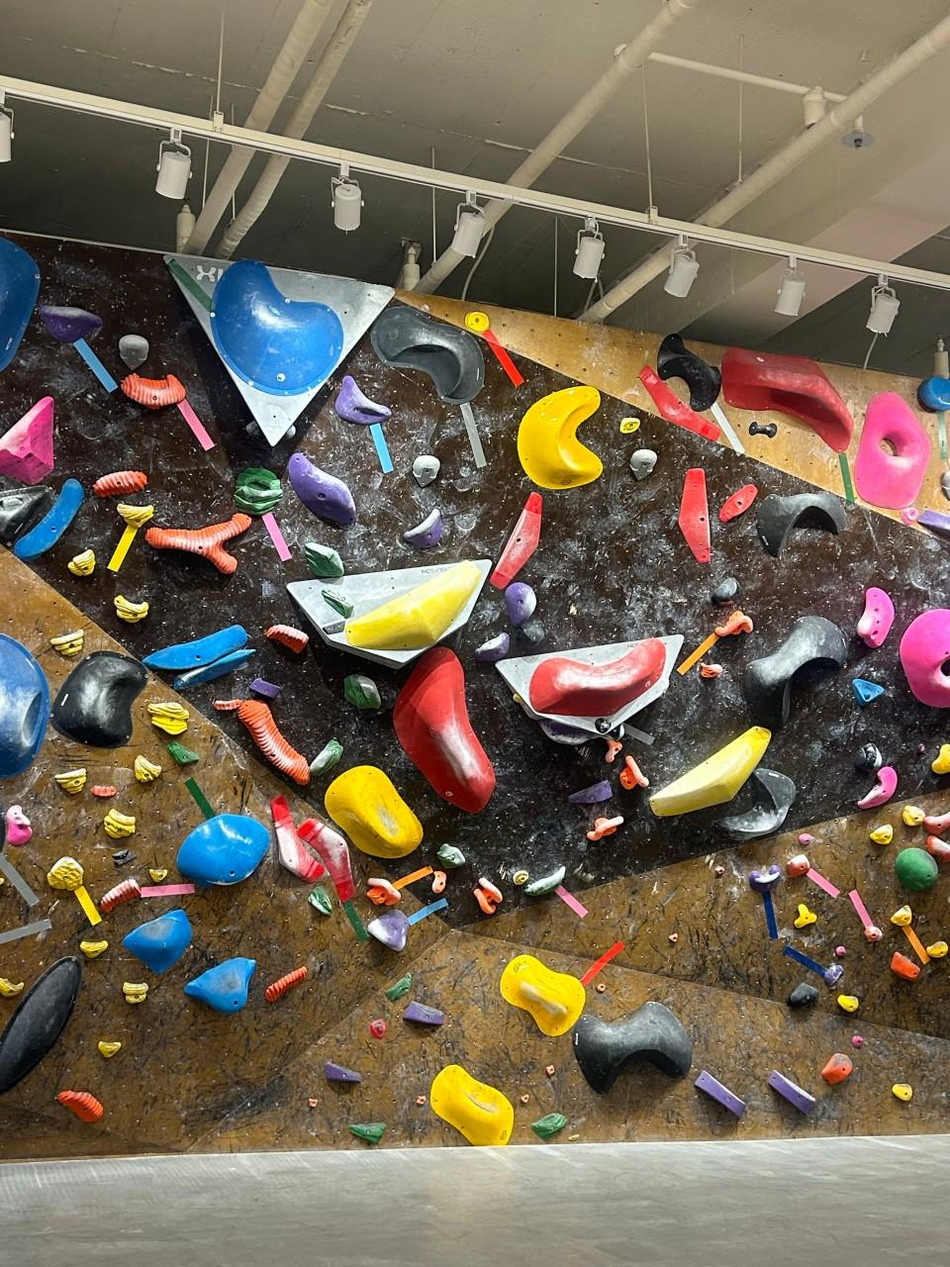hold: (211, 259, 341, 395), (393, 646, 495, 813), (720, 348, 853, 453), (344, 561, 481, 649), (743, 616, 846, 726), (0, 956, 81, 1094), (370, 305, 483, 403), (572, 1002, 690, 1093), (650, 727, 770, 816), (529, 638, 665, 715), (51, 651, 146, 747), (854, 393, 930, 510), (326, 766, 423, 857), (517, 386, 602, 488), (0, 634, 49, 778), (502, 954, 585, 1034), (430, 1064, 513, 1144), (177, 814, 270, 884), (145, 513, 251, 573), (238, 700, 309, 786), (639, 366, 720, 441), (757, 493, 846, 556), (14, 479, 83, 560), (717, 768, 795, 839), (0, 238, 40, 370), (657, 334, 722, 412), (297, 818, 354, 903), (900, 610, 949, 707), (288, 453, 354, 525), (491, 494, 541, 588), (0, 397, 53, 484), (142, 626, 247, 669), (272, 796, 325, 881), (124, 910, 191, 973), (184, 957, 255, 1012), (175, 649, 254, 690), (0, 485, 53, 543), (679, 469, 710, 562), (334, 376, 391, 425), (40, 305, 102, 343), (234, 467, 282, 515), (695, 1071, 743, 1118), (857, 587, 894, 647), (121, 373, 185, 407), (769, 1071, 815, 1113), (895, 848, 937, 890), (857, 765, 897, 809), (368, 911, 408, 950), (302, 541, 343, 579), (265, 966, 307, 1003), (718, 483, 756, 523), (403, 509, 441, 547), (540, 719, 595, 745), (147, 702, 189, 736), (56, 1092, 103, 1122), (101, 878, 140, 913), (94, 471, 146, 497), (344, 674, 380, 710), (506, 582, 534, 627), (524, 866, 565, 895), (266, 625, 308, 653), (48, 857, 82, 891), (918, 376, 949, 412), (473, 877, 502, 915), (569, 779, 613, 804), (312, 739, 342, 775), (119, 335, 148, 370), (365, 878, 401, 906), (117, 503, 154, 530), (821, 1053, 853, 1084), (619, 757, 649, 790), (586, 815, 624, 841), (6, 807, 32, 845), (475, 633, 509, 662), (714, 611, 753, 635), (531, 1113, 567, 1139), (404, 1001, 443, 1025), (103, 808, 134, 838), (322, 589, 353, 619), (629, 448, 657, 480), (115, 595, 146, 623), (51, 630, 84, 656), (55, 767, 86, 794), (749, 866, 781, 892), (852, 680, 884, 706), (413, 455, 439, 486), (67, 548, 95, 576), (890, 951, 919, 978), (349, 1122, 385, 1143), (518, 618, 546, 645), (788, 982, 818, 1007), (135, 755, 161, 783), (919, 510, 949, 534), (167, 741, 198, 764), (309, 885, 332, 916), (385, 974, 411, 1001), (855, 744, 882, 770), (711, 577, 738, 603), (436, 843, 464, 868), (326, 1061, 360, 1081), (926, 834, 949, 862), (249, 678, 280, 698), (79, 939, 108, 958), (932, 743, 949, 774), (863, 925, 886, 947), (787, 854, 809, 876), (124, 982, 146, 1003), (0, 977, 23, 997), (750, 422, 777, 439), (872, 825, 894, 845), (836, 994, 858, 1014), (97, 1040, 121, 1058), (467, 313, 488, 333), (903, 805, 923, 826), (796, 904, 815, 926), (926, 940, 949, 958), (825, 963, 843, 986), (605, 739, 621, 763), (892, 905, 911, 925), (113, 850, 135, 867), (700, 663, 724, 678), (322, 620, 346, 635), (431, 871, 446, 894), (370, 1019, 388, 1038), (149, 866, 167, 883), (620, 417, 639, 433), (91, 785, 116, 797), (244, 420, 261, 437), (892, 1085, 910, 1100), (514, 869, 528, 886), (902, 509, 917, 524), (215, 701, 242, 709), (596, 718, 611, 732), (280, 426, 295, 438), (800, 832, 813, 845), (852, 1036, 862, 1047), (417, 1095, 426, 1105), (669, 932, 678, 942), (309, 1098, 318, 1107), (715, 866, 724, 875), (546, 1066, 554, 1076), (836, 946, 844, 956), (520, 1095, 528, 1103), (598, 984, 606, 992), (569, 1134, 579, 1140), (513, 694, 519, 703)
volume: (163, 255, 398, 447), (283, 560, 492, 669), (499, 634, 683, 735)
